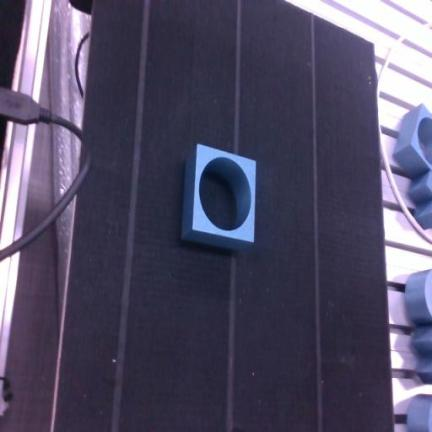square: (182, 143, 255, 249)
